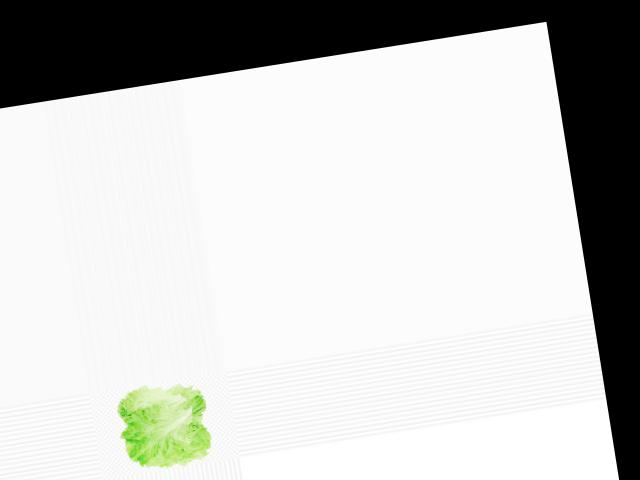lettuce: (107, 373, 221, 477)
